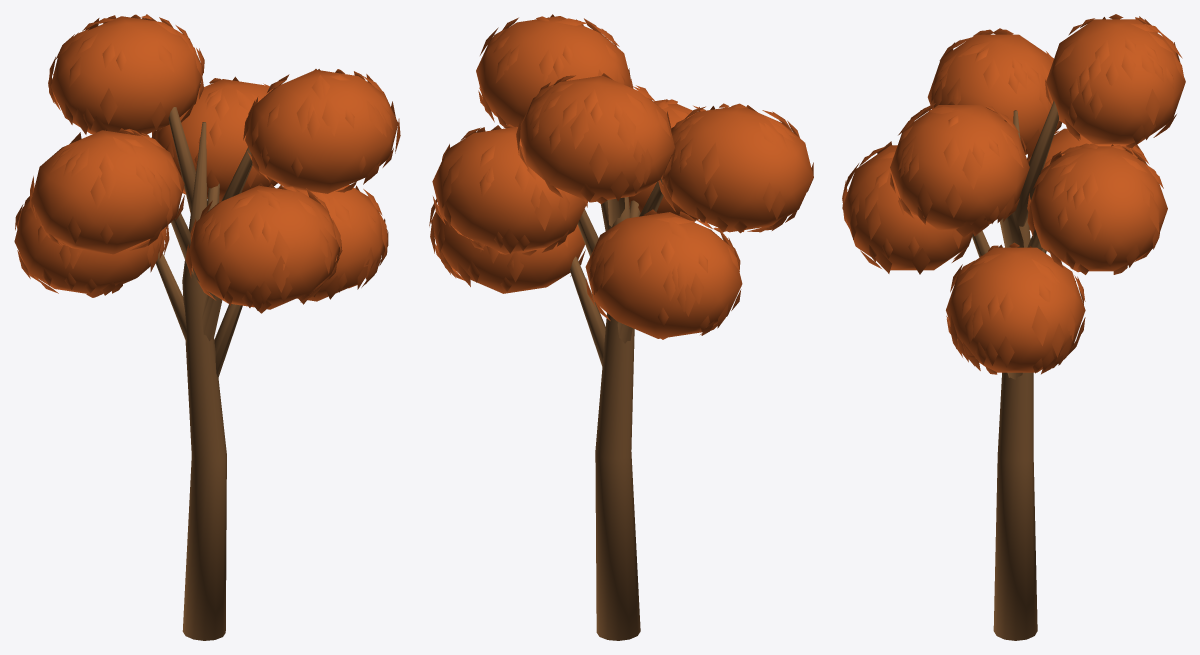
The model's file is SM_Env_Tree_03.fbx.
3 views of the same model, side by side, from view 1: azimuth 30°, elevation 25°; view 2: azimuth 150°, elevation 25°; view 3: azimuth 270°, elevation 25° (orthographic). The views are drawn at different scales.
Visible parts, largest first — view 1: Tree_trunk.002, Crown_inner_volume.019, Crown_inner_volume.020, Crown_inner_volume.018, Crown_inner_volume.016, Crown_inner_volume.017, Crown_inner_volume.015, Leaves.031, Leaves.033, Crown_inner_volume.014, Leaves.034, Leaves.035 (+8 smaller); view 2: Crown_inner_volume.015, Crown_inner_volume.018, Tree_trunk.002, Crown_inner_volume.020, Crown_inner_volume.017, Crown_inner_volume.019, Leaves.035, Crown_inner_volume.014, Leaves.030, Leaves.033, Leaves.032, Leaves.034 (+3 smaller); view 3: Crown_inner_volume.017, Crown_inner_volume.020, Crown_inner_volume.019, Tree_trunk.002, Crown_inner_volume.014, Crown_inner_volume.018, Crown_inner_volume.016, Leaves.029, Leaves.035, Leaves.034, Leaves.032, Leaves.033 (+4 smaller).
Part boxes in pixels (<box>): Tree_trunk.002: <box>182,122,226,640</box>; Crown_inner_volume.019: <box>245,69,398,193</box>; Crown_inner_volume.020: <box>50,16,203,136</box>; Crown_inner_volume.018: <box>31,130,184,254</box>; Crown_inner_volume.016: <box>189,185,339,309</box>; Crown_inner_volume.017: <box>156,79,277,198</box>; Crown_inner_volume.015: <box>14,203,167,293</box>; Leaves.031: <box>185,183,342,313</box>; Leaves.033: <box>30,128,184,250</box>; Crown_inner_volume.014: <box>283,185,387,301</box>; Leaves.034: <box>243,69,400,192</box>; Leaves.035: <box>48,14,204,134</box>; Crown_inner_volume.015: <box>585,212,742,338</box>; Crown_inner_volume.018: <box>661,107,813,232</box>; Tree_trunk.002: <box>595,197,640,640</box>; Crown_inner_volume.020: <box>520,75,674,202</box>; Crown_inner_volume.017: <box>432,126,585,253</box>; Crown_inner_volume.019: <box>476,16,630,126</box>; Leaves.035: <box>516,73,675,203</box>; Crown_inner_volume.014: <box>431,211,585,293</box>; Leaves.030: <box>586,209,741,339</box>; Leaves.033: <box>658,103,813,233</box>; Leaves.032: <box>433,124,587,255</box>; Leaves.034: <box>478,14,633,128</box>; Crown_inner_volume.017: <box>1028,146,1167,271</box>; Crown_inner_volume.020: <box>1046,19,1185,144</box>; Crown_inner_volume.019: <box>890,105,1029,229</box>; Tree_trunk.002: <box>993,110,1037,640</box>; Crown_inner_volume.014: <box>946,247,1085,372</box>; Crown_inner_volume.018: <box>927,34,1058,154</box>; Crown_inner_volume.016: <box>842,145,972,270</box>; Leaves.029: <box>946,242,1085,374</box>; Leaves.035: <box>1045,14,1184,148</box>; Leaves.034: <box>890,101,1026,237</box>; Leaves.032: <box>1027,143,1163,274</box>; Leaves.033: <box>931,28,1061,158</box>.
Size of what is drawn, in the model's own units: 144 by 120 by 229.
